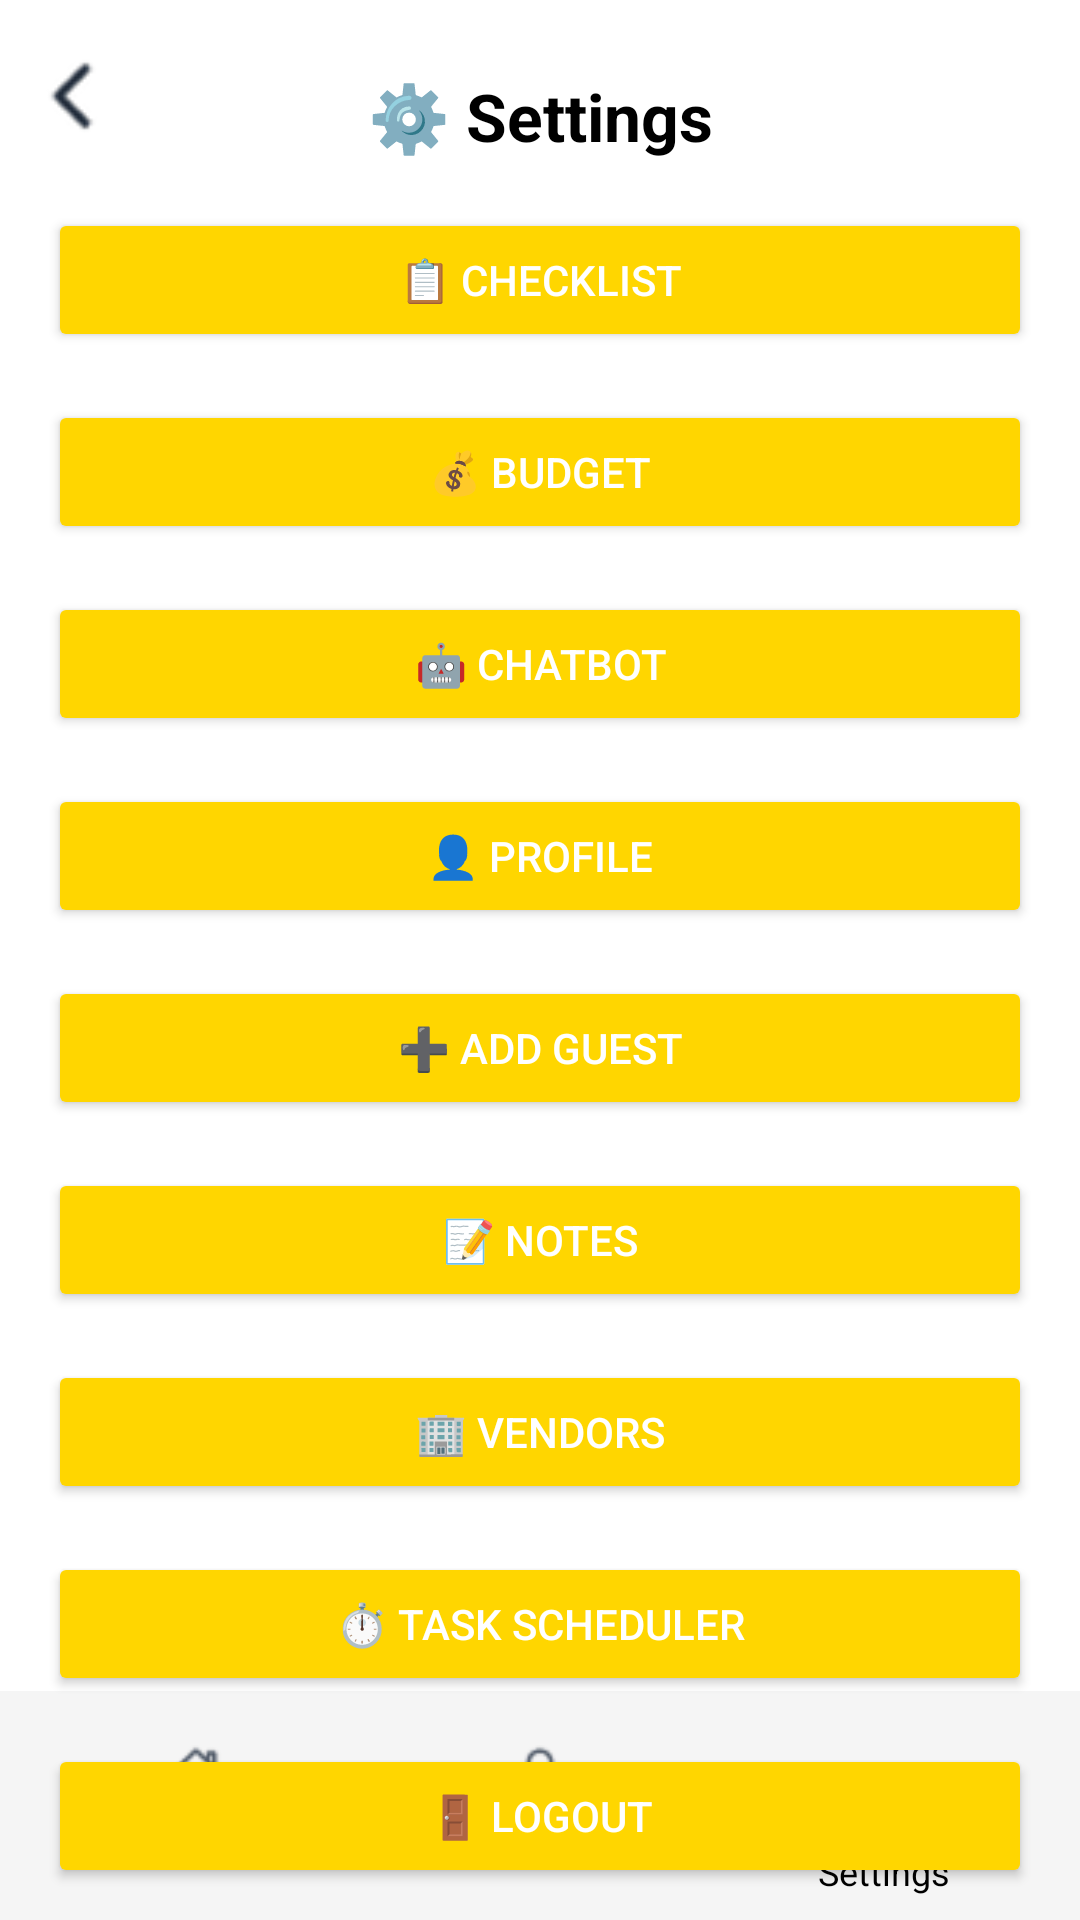

Screen size 1080 x 1920. Icon name, then its box in pixels as rect(x1, y1, x2, y2):
Back: rect(51, 62, 93, 130)
